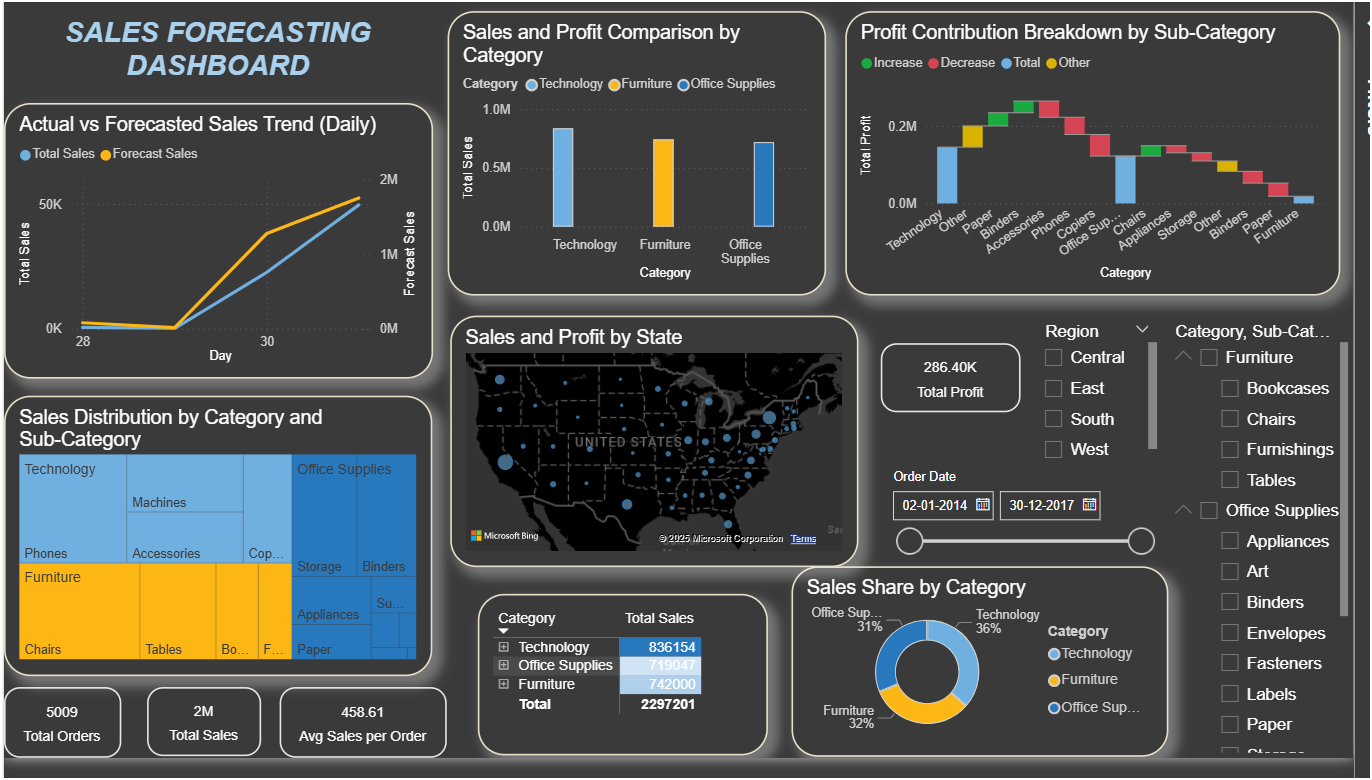

The dashboard page shown, as its layout file describes it:
{"tool":"powerbi","page":{"name":"Historical Analysis & Future Sales Prediction","canvas":[1280,720],"ordinal":0},"visuals":[{"type":"lineChart","title":"Actual vs Forecasted Sales Trend (Daily)","fields":{"Y":["Sample - Superstore.Total Sales"],"Y2":["Sample - Superstore.Forecast Sales"],"Category":["sales_forecast.ds.Variation.Date Hierarchy.Day"]},"box":[0,99.6,406.9,261.3],"z":0},{"type":"card","fields":{"Values":["Sample - Superstore.Total Profit"]},"box":[830.8,327.7,132.9,65.8],"z":1000},{"type":"card","fields":{"Values":["Sample - Superstore.Total Orders"]},"box":[0,652.8,110.9,67.1],"z":2000},{"type":"card","fields":{"Values":["Sample - Superstore.Avg Sales per Order"]},"box":[261.9,652.8,158.7,67.1],"z":3000},{"type":"clusteredColumnChart","title":"Sales and Profit Comparison by Category","fields":{"Category":["Sample - Superstore.Category"],"Y":["Sample - Superstore.Total Sales"],"Series":["Sample - Superstore.Category"]},"box":[420.6,12.9,358.6,269.6],"z":4000},{"type":"treemap","title":"Sales Distribution by Category and Sub-Category","fields":{"Group":["Sample - Superstore.Category"],"Details":["Sample - Superstore.Sub-Category"],"Values":["Sample - Superstore.Total Sales"]},"box":[0,376.7,406.4,265.8],"z":5000},{"type":"slicer","fields":{"Values":["Sample - Superstore.Order Date"]},"box":[829.5,442.3,269.2,96.2],"z":6000},{"type":"slicer","fields":{"Values":["Sample - Superstore.Region"]},"box":[974,300.6,123.9,143.2],"z":7000},{"type":"slicer","fields":{"Values":["Sample - Superstore.Category","Sample - Superstore.Sub-Category"]},"box":[1097.9,300.6,181.9,419.3],"z":8000},{"type":"pivotTable","title":"Heat map","fields":{"Rows":["Sample - Superstore.Category","Sample - Superstore.Sub-Category"],"Values":["Sample - Superstore.Total Sales"]},"box":[449,565.1,274.8,153.5],"z":9000},{"type":"waterfallChart","title":"Profit Contribution Breakdown by Sub-Category","fields":{"Y":["Sample - Superstore.Total Profit"],"Category":["Sample - Superstore.Category"],"Breakdown":["Sample - Superstore.Sub-Category"]},"box":[797.3,12.9,469.6,269.6],"z":10000},{"type":"donutChart","title":"Sales Share by Category","fields":{"Category":["Sample - Superstore.Category"],"Y":["Sum(Sample - Superstore.Sales)"]},"box":[746.7,538.8,337.2,180.4],"z":11000},{"type":"card","fields":{"Values":["Sample - Superstore.Total Sales"]},"box":[135.5,652.8,108.4,65.8],"z":12000},{"type":"map","title":"Sales and Profit by State","fields":{"Category":["Sample - Superstore.State"],"Size":["Sum(Sample - Superstore.Sales)"]},"box":[420.6,299.9,377.1,237.7],"z":13000},{"type":"textbox","box":[14.2,12.9,378,78.7],"z":14000}]}

Visuals, with their boxes in screenshot pixels (x1, y1, x2, y2), scaled from the page's 1280x720 canvas onto the 1372x780 screenshot:
"Actual vs Forecasted Sales Trend (Daily)" lineChart: l=0, t=108, r=436, b=391
card - Sample - Superstore.Total Profit: l=891, t=355, r=1033, b=426
card - Sample - Superstore.Total Orders: l=0, t=707, r=119, b=779
card - Sample - Superstore.Avg Sales per Order: l=281, t=707, r=451, b=779
"Sales and Profit Comparison by Category" clusteredColumnChart: l=451, t=14, r=835, b=306
"Sales Distribution by Category and Sub-Category" treemap: l=0, t=408, r=436, b=696
slicer - Sample - Superstore.Order Date: l=889, t=479, r=1178, b=583
slicer - Sample - Superstore.Region: l=1044, t=326, r=1177, b=481
slicer - Sample - Superstore.Category x Sample - Superstore.Sub-Category: l=1177, t=326, r=1371, b=779
"Heat map" pivotTable: l=481, t=612, r=776, b=778
"Profit Contribution Breakdown by Sub-Category" waterfallChart: l=855, t=14, r=1358, b=306
"Sales Share by Category" donutChart: l=800, t=584, r=1162, b=779
card - Sample - Superstore.Total Sales: l=145, t=707, r=261, b=778
"Sales and Profit by State" map: l=451, t=325, r=855, b=582
textbox: l=15, t=14, r=420, b=99
